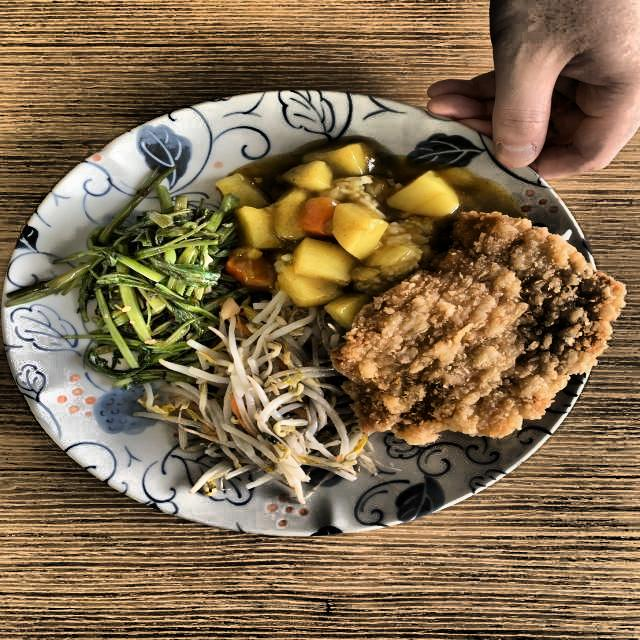Food: (378, 242, 587, 426), (238, 158, 435, 269), (195, 320, 342, 468), (78, 206, 207, 350)
